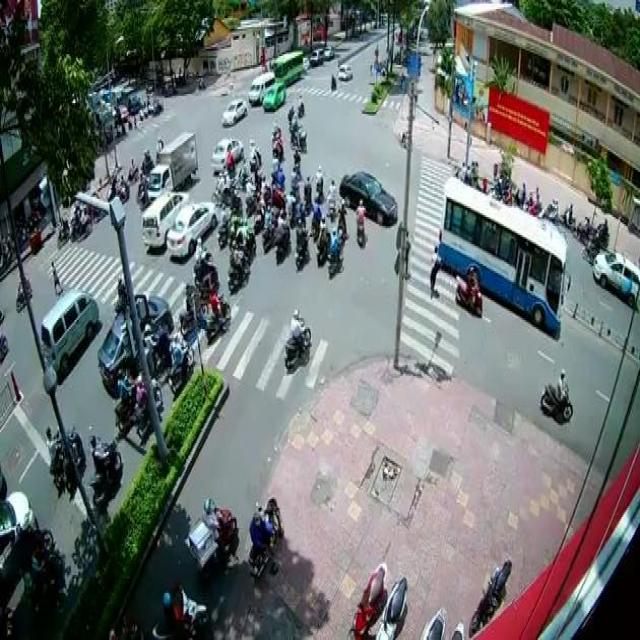bus: (436, 177, 567, 336)
car: (96, 294, 172, 390), (337, 168, 397, 228), (166, 200, 218, 256), (591, 248, 640, 306), (141, 188, 189, 246), (210, 136, 244, 172), (220, 98, 248, 126)
motorcycle: (86, 430, 120, 508), (539, 367, 574, 428), (202, 495, 237, 548), (283, 306, 312, 365), (202, 280, 231, 338), (454, 266, 483, 318), (294, 215, 311, 271), (327, 224, 343, 277), (312, 164, 323, 204)
truck: (40, 291, 100, 376), (148, 130, 197, 192), (248, 71, 275, 101)
